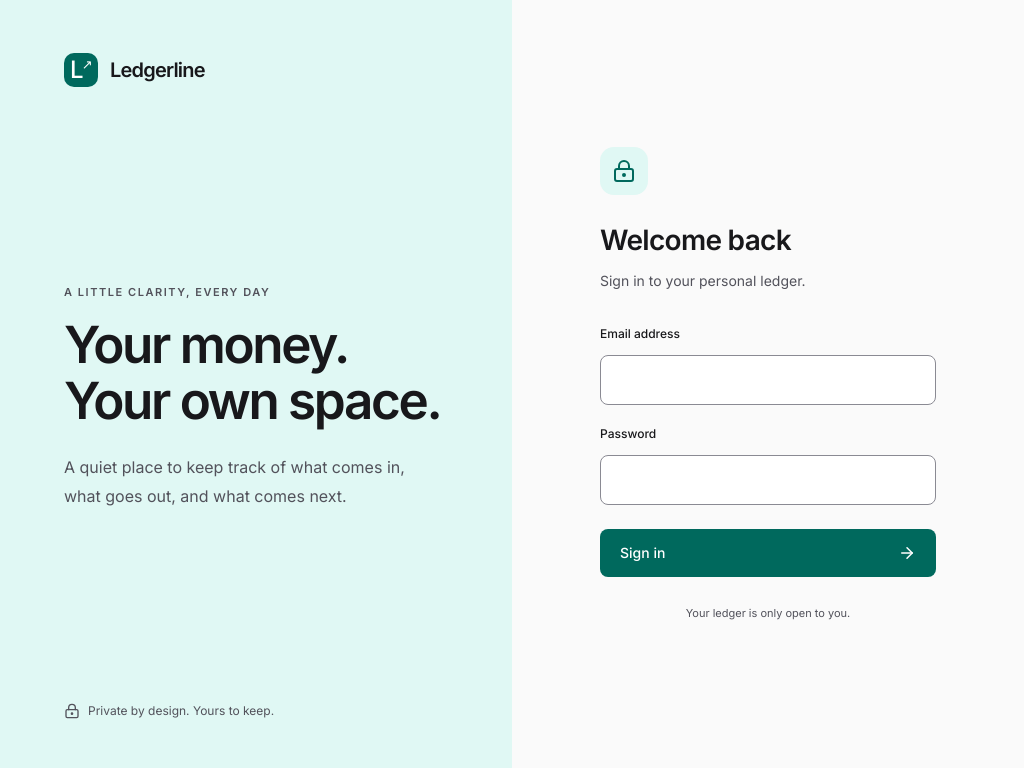
two-factor code step › takes a backup code, explains a lock, and goes back to the password
Type "you@example.com" into the field labelled "Email address" at coordinates (768, 380), box x1=600 y1=355 x2=936 y2=405
Type "a-long-password-12" into the password field labelled "Password" at coordinates (768, 480), box x1=600 y1=455 x2=936 y2=505
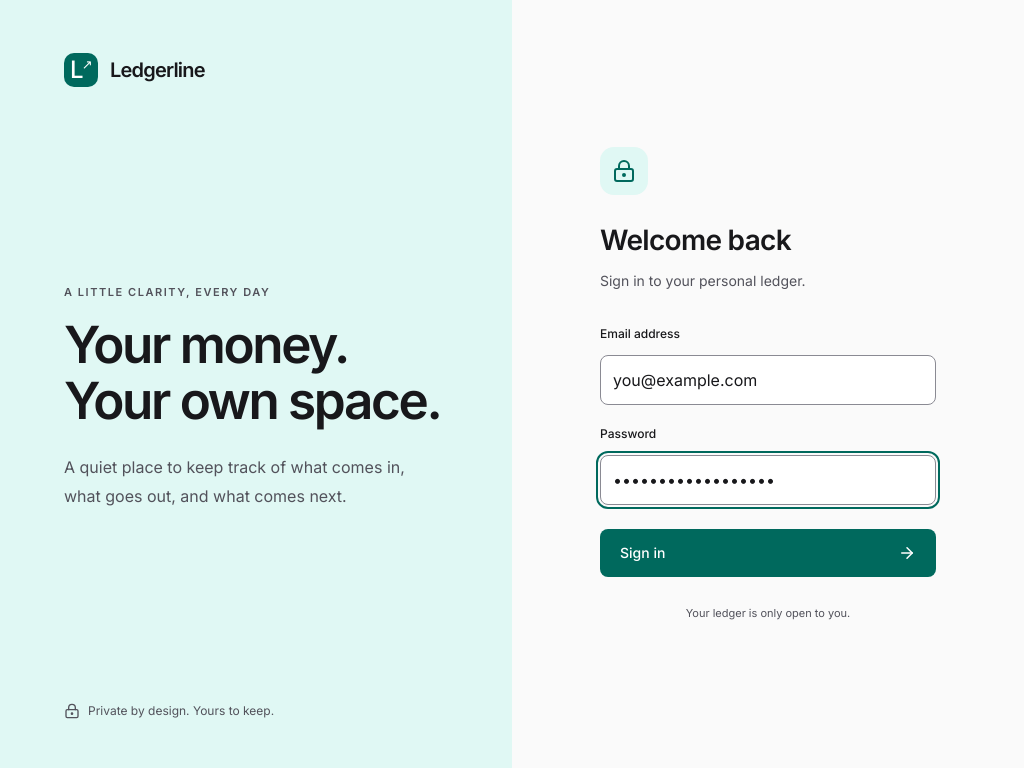
Click the button "Sign in" at coordinates (643, 553), box x1=600 y1=529 x2=936 y2=577
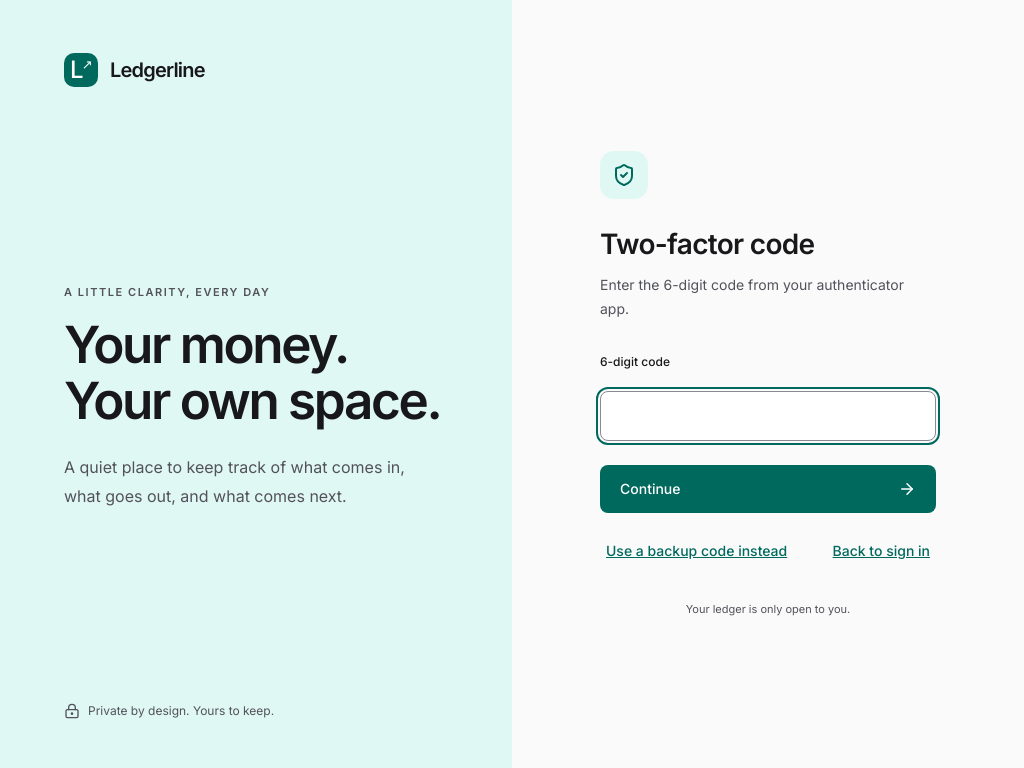
Click the button "Use a backup code instead" at coordinates (697, 550), box x1=600 y1=528 x2=793 y2=572
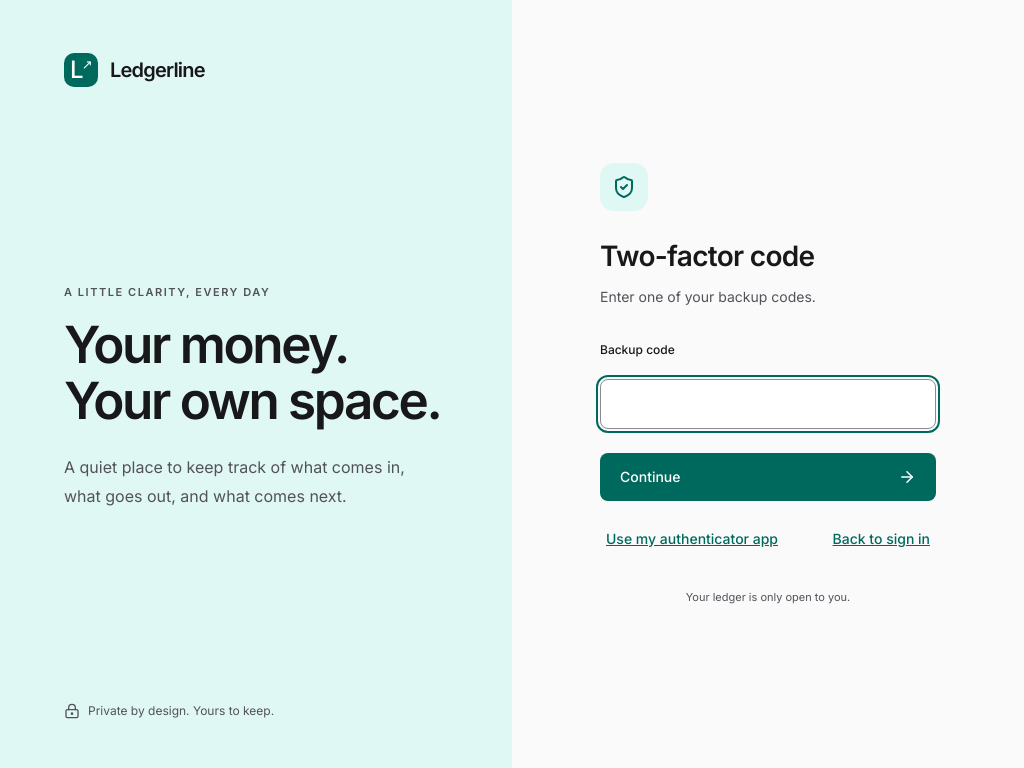
Type "abcd-efgh" into the field labelled "Backup code" at coordinates (768, 404), box x1=600 y1=379 x2=936 y2=429
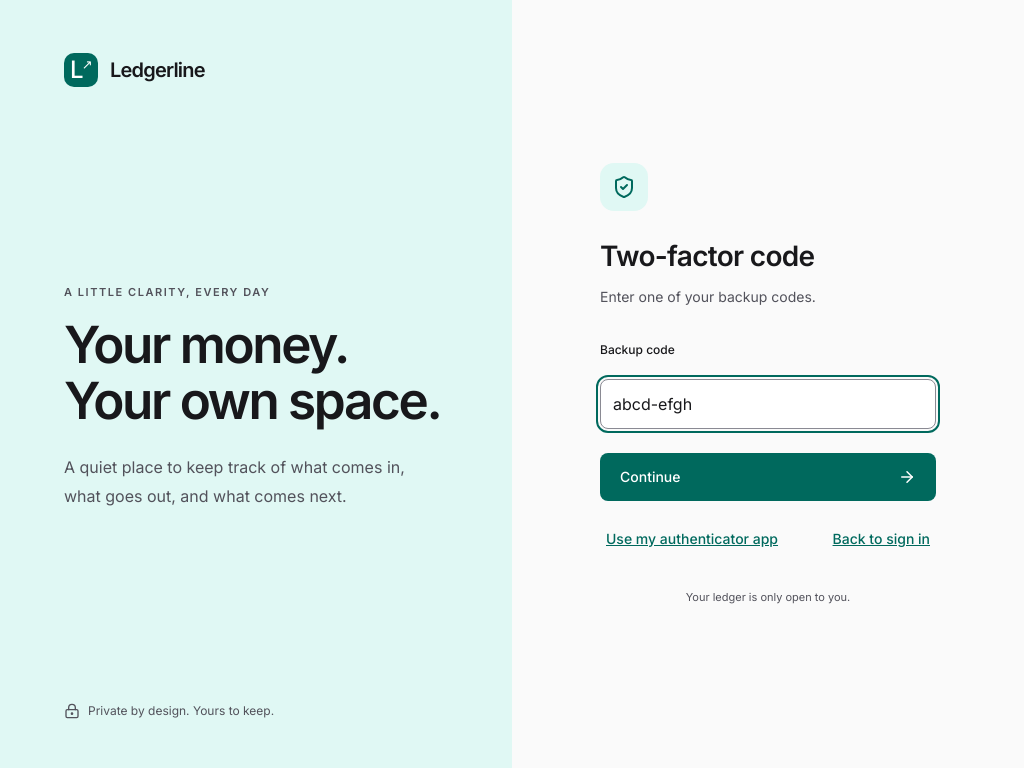
Click the button "Continue" at coordinates (650, 477), box x1=600 y1=453 x2=936 y2=501
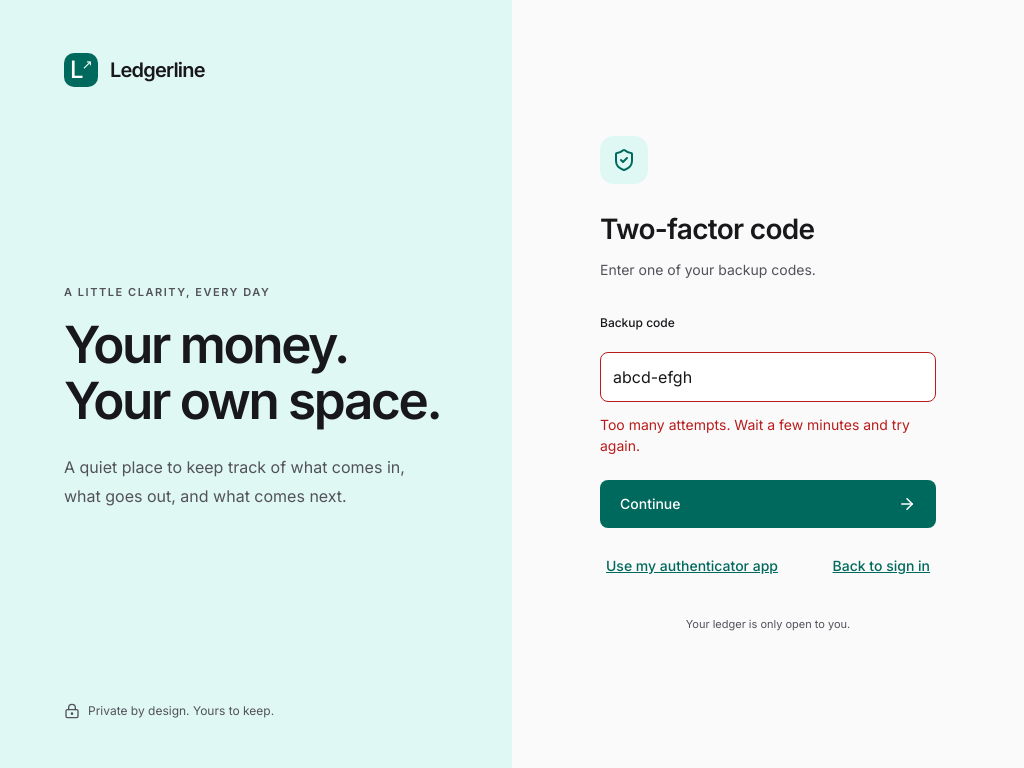
Result: the message shows "Too many attempts." at x1=600 y1=416 x2=910 y2=454
Click the button "Back to sign in" at coordinates (881, 566), box x1=826 y1=544 x2=936 y2=588
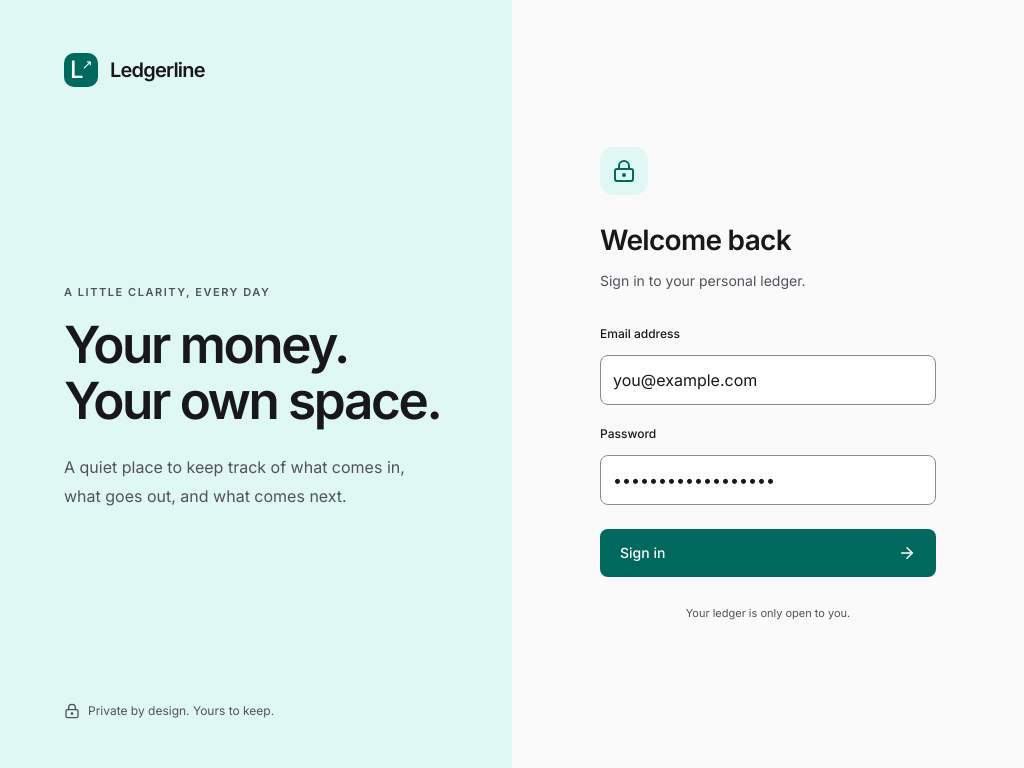
Result: the heading "Welcome back" is shown at x1=600 y1=223 x2=791 y2=257
